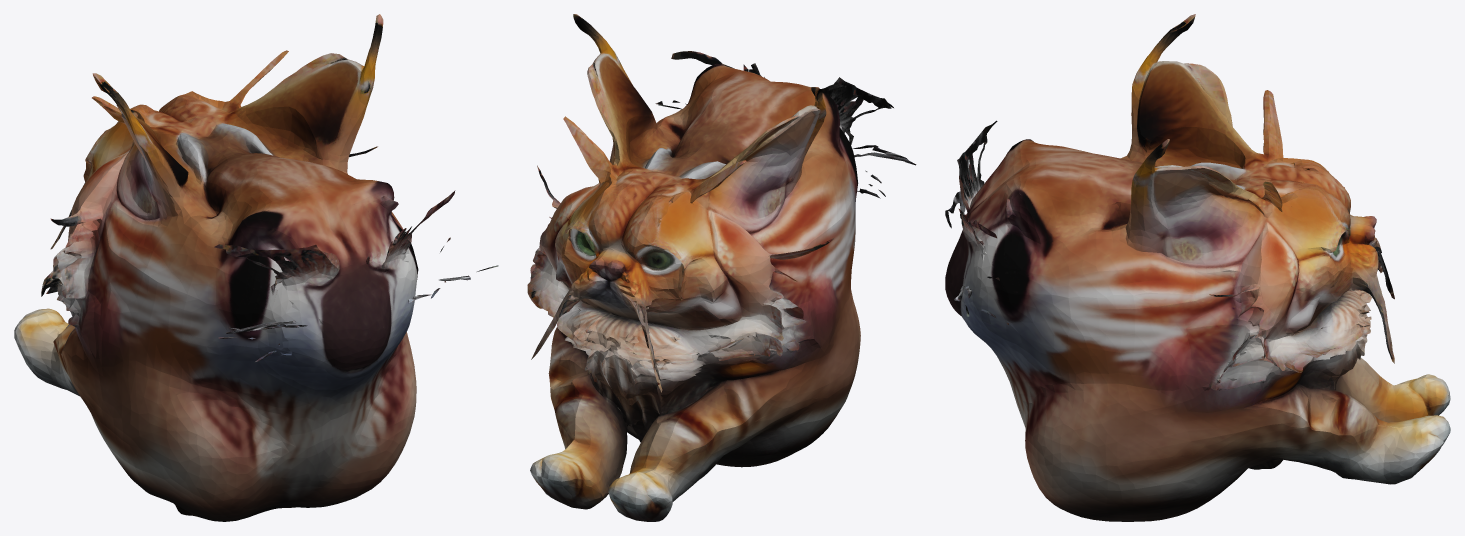
Rendered from teste_trellis_modal.glb.
3 renders of one model, left to right at view 1: azimuth 30°, elevation 25°; view 2: azimuth 150°, elevation 25°; view 3: azimuth 270°, elevation 25°, orthographic. The views are drawn at different scales.
Parts seen in each view (by area): view 1: world; view 2: world; view 3: world.
Part boxes in pixels (box(x1,y1,x2,y2)): world: box(14, 14, 498, 521); world: box(527, 14, 916, 521); world: box(945, 14, 1450, 521).
Size of the model in its own units: 0.7072 by 0.9199 by 0.9987.
Materials: 1 (1 with a texture image).
